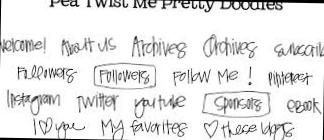text: (0, 28, 324, 62), (5, 88, 323, 122), (16, 60, 314, 90), (31, 113, 296, 140), (45, 0, 284, 15)
